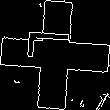L_E: (29, 38, 81, 72)
